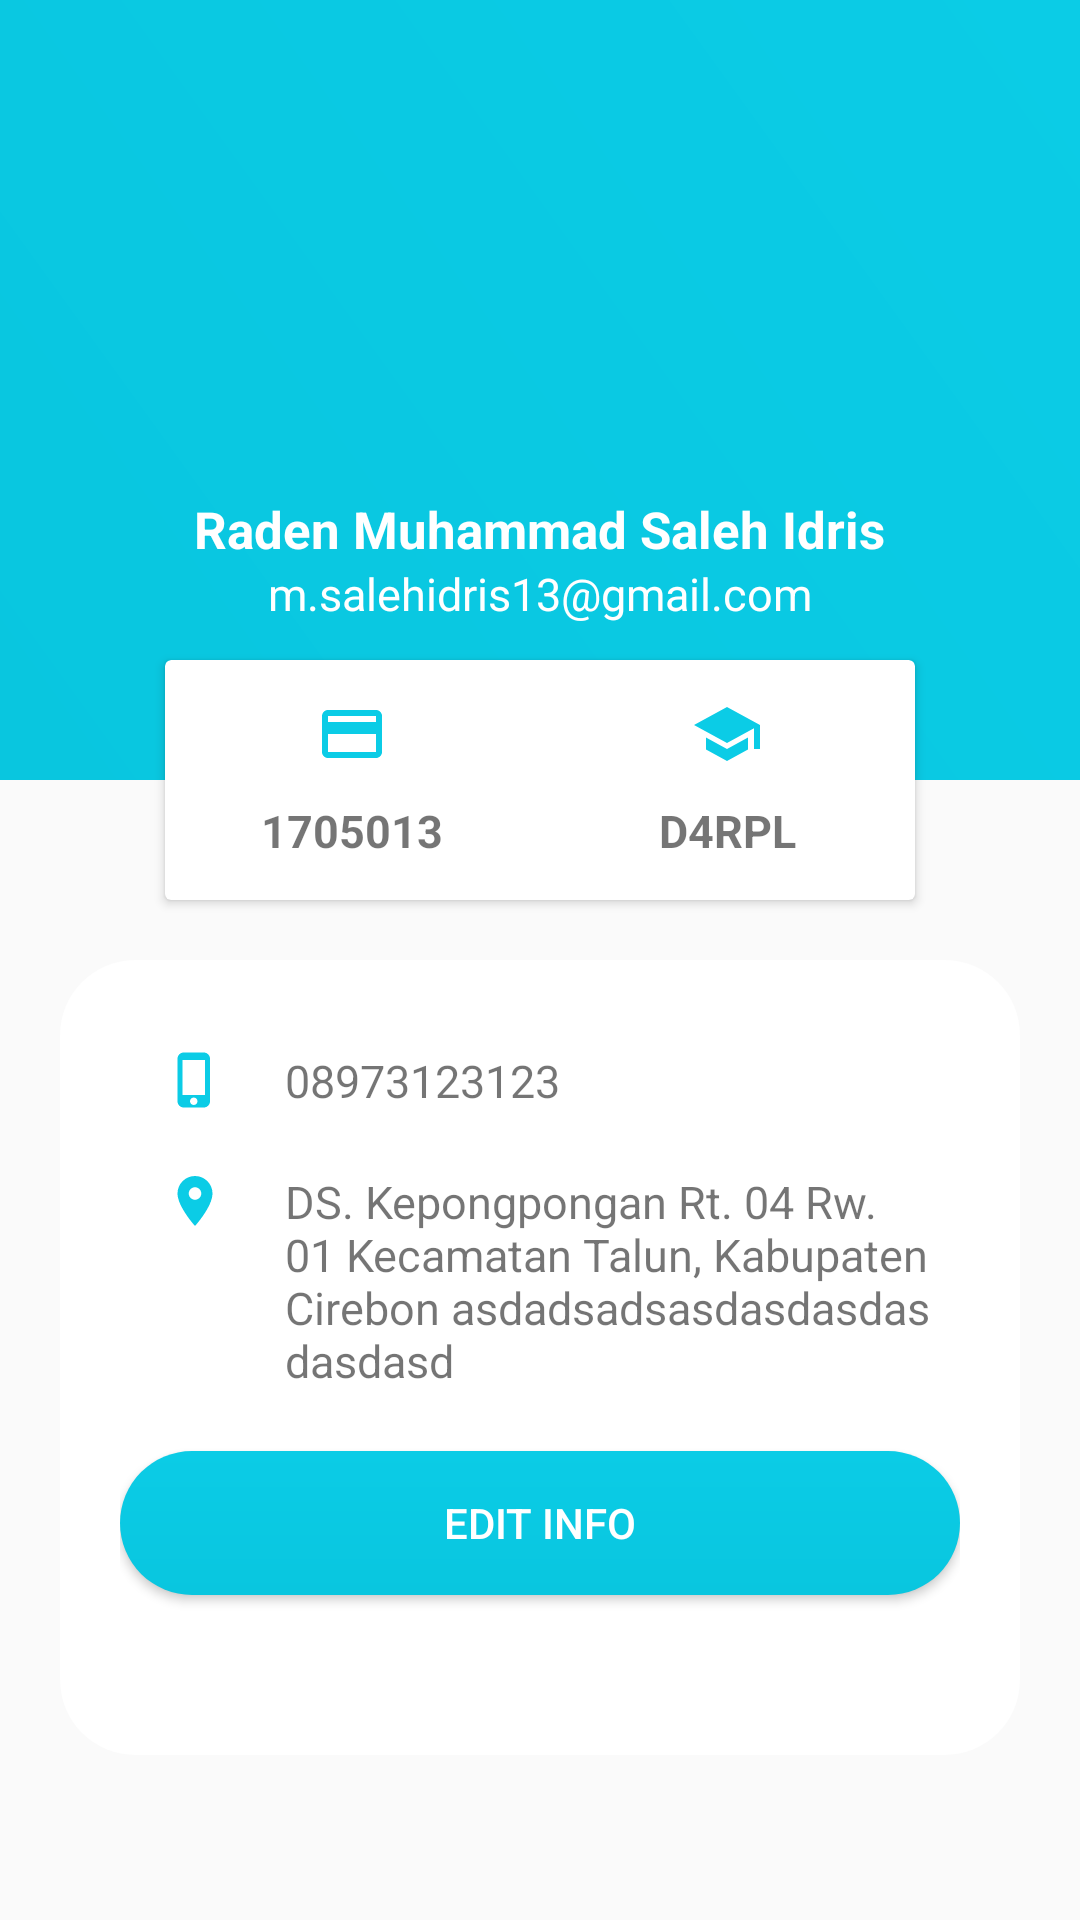

Locate icon controls on the screen. Image size 1080w x 1920h, boxes as [left=x1, top=y1, right=x2, bottom=y2].
phone iphone lightblue: [left=177, top=1052, right=210, bottom=1108]
place lightblue: [left=177, top=1176, right=213, bottom=1226]
